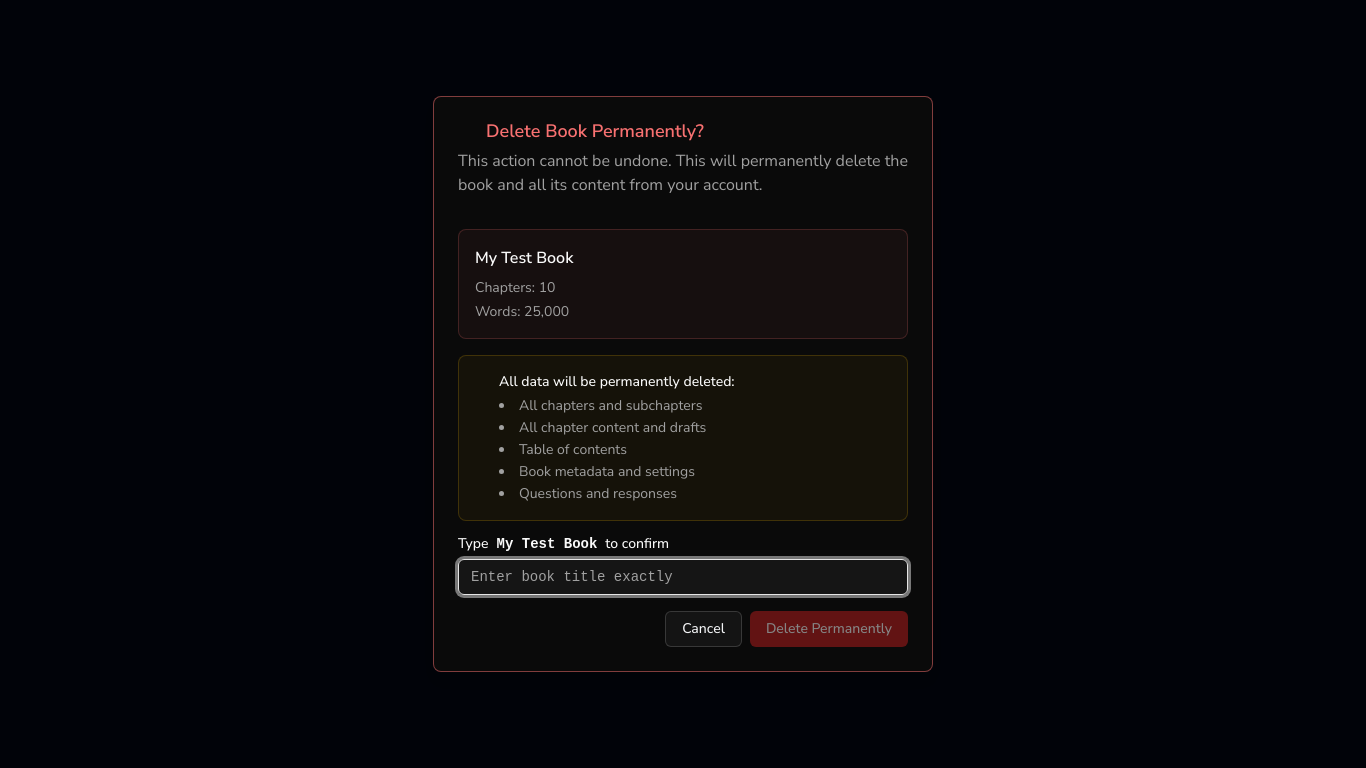
Test case: DeleteBookModal › Confirmation Input › enables delete button when exact title is entered
The width and height of the screenshot is (1366, 768).
// Type exact title
Step 1. Type "My Test Book" into the field with placeholder "Enter book title exactly" → (683, 577), box [458, 559, 908, 595]
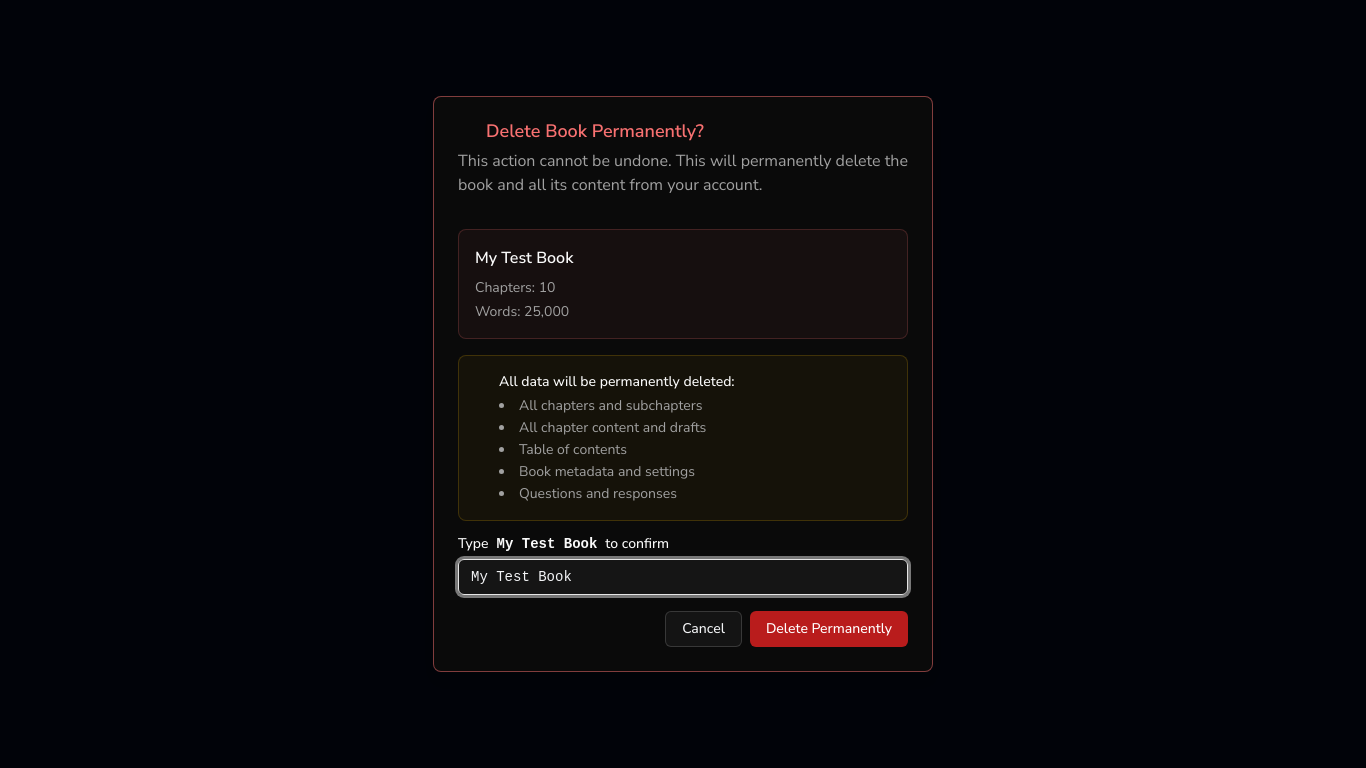
Expected: the button "Delete Permanently" is enabled, [750, 611, 908, 647]
